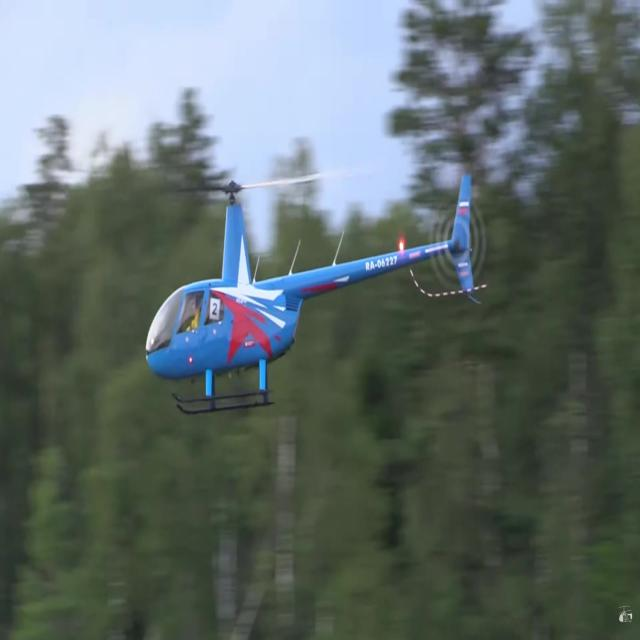CIV_HELO: (145, 174, 483, 418)
